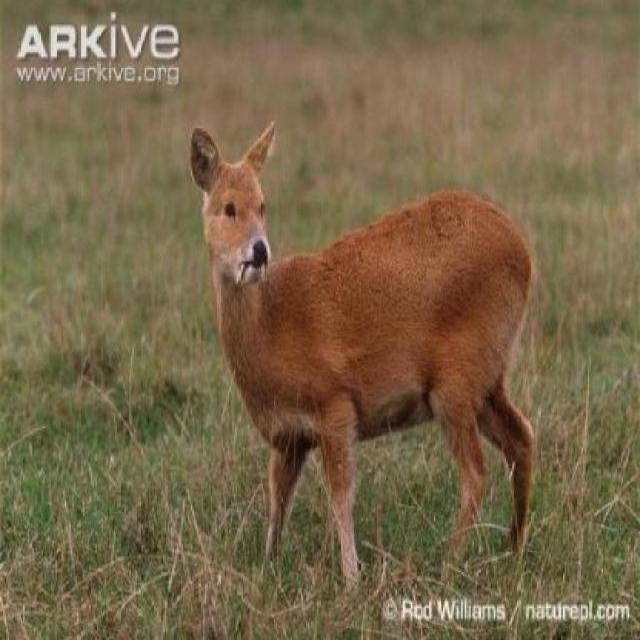deer: (176, 126, 552, 594)
